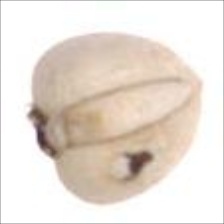L5: (62, 74, 197, 151), (24, 96, 62, 161)
L6: (25, 30, 205, 206)
